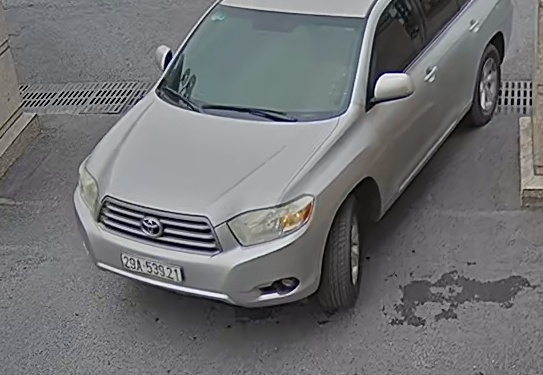vehicle plate: (114, 250, 182, 286)
